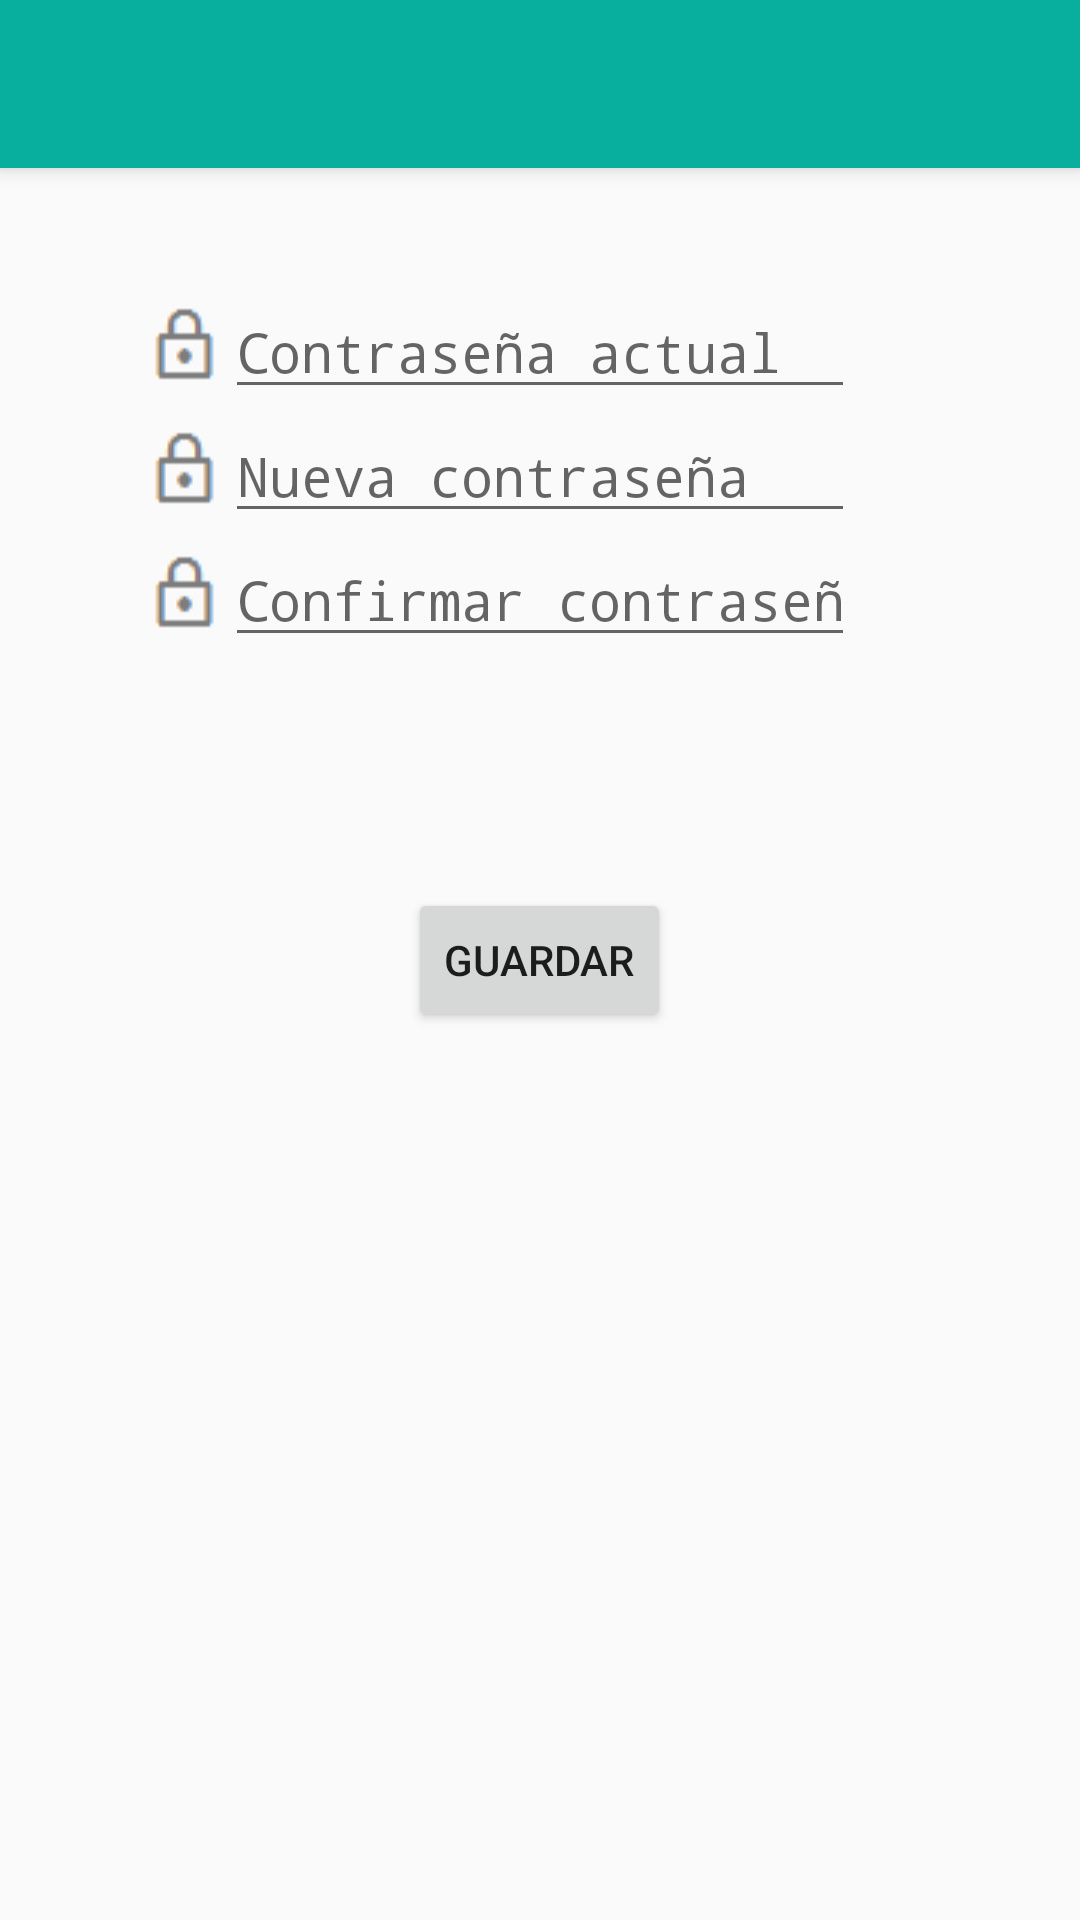

Where icons sit on this 1080*1920 app screen, as (x1, y1, x2, y2):
lock: (155, 309, 214, 379), (155, 433, 214, 503), (155, 557, 214, 627)
